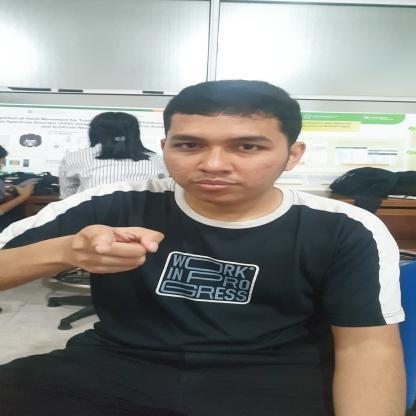Kamu: (0, 184, 169, 308)
